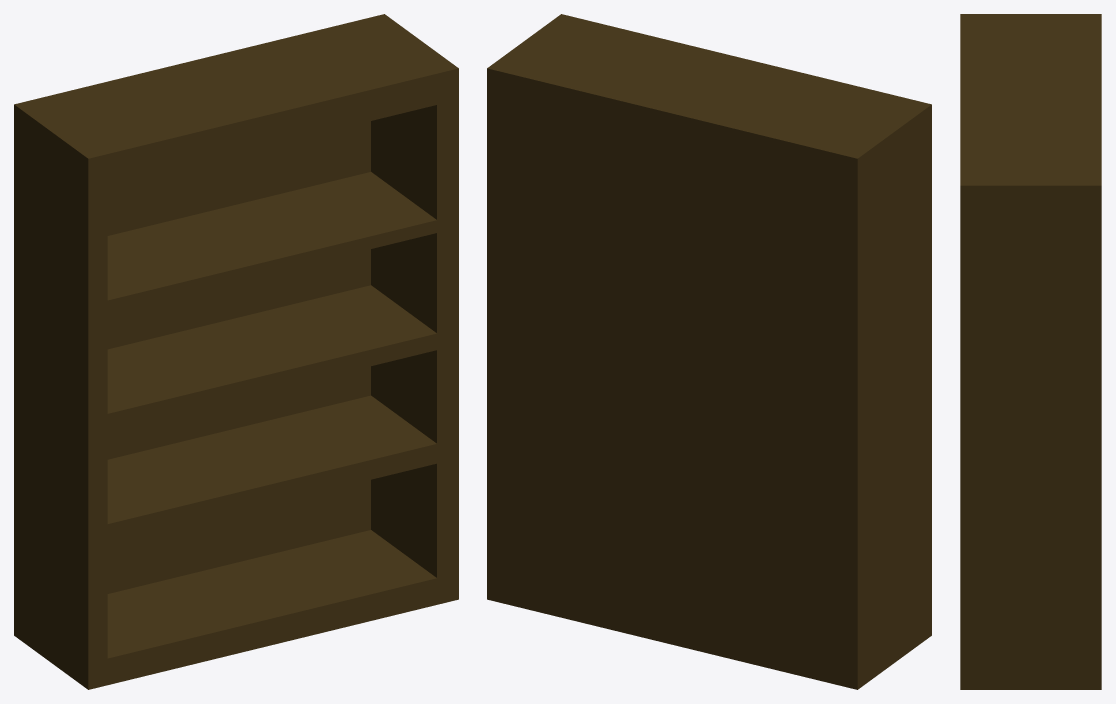
File: shelf.fbx
The picture shows the model from 3 angles, left to right: view 1: azimuth 30°, elevation 25°; view 2: azimuth 150°, elevation 25°; view 3: azimuth 270°, elevation 25°; orthographic projection. The views are drawn at different scales.
Visible parts, largest first — view 1: shelf; view 2: shelf; view 3: shelf.
Boxes of the visible parts, left/top/right/bottom form: shelf: left=14, top=14, right=458, bottom=689; shelf: left=487, top=14, right=931, bottom=689; shelf: left=960, top=14, right=1101, bottom=689.
Bounding box in the file's own units: 2.9 × 3.97 × 1.01.
